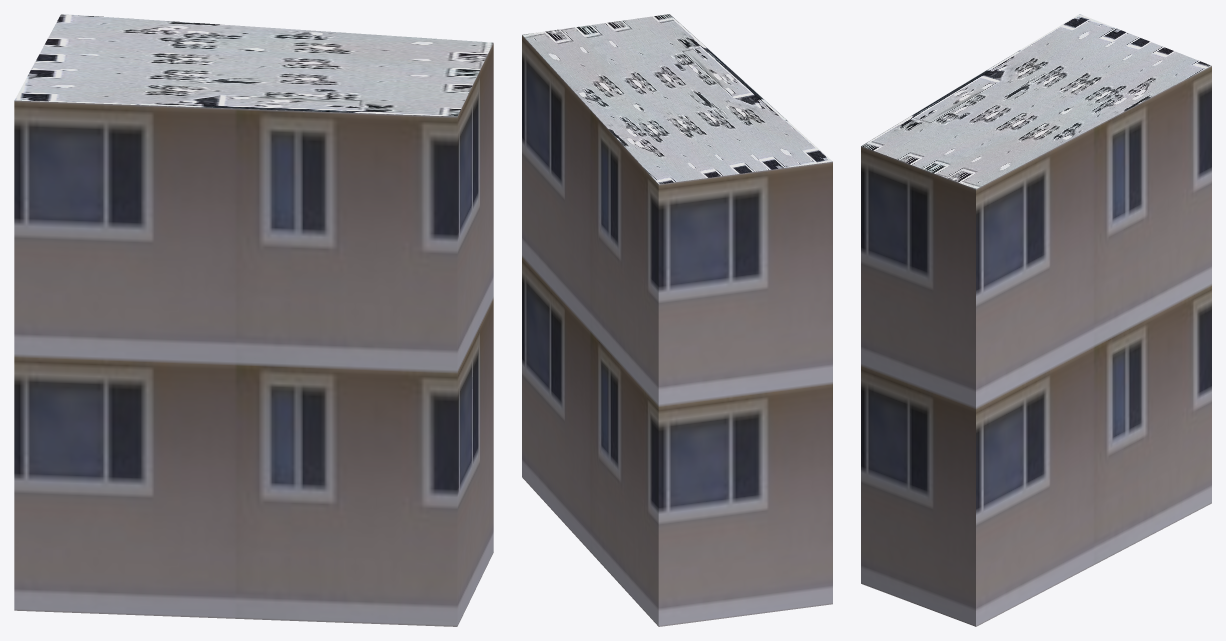
The model's file is ResTex__4832.fbx.
3 views of the same model, side by side, from view 1: azimuth 30°, elevation 25°; view 2: azimuth 150°, elevation 25°; view 3: azimuth 270°, elevation 25° (orthographic). The views are drawn at different scales.
Visible parts, largest first — view 1: CityEngineMaterial_21_m, CityEngineMaterial_4_m; view 2: CityEngineMaterial_21_m, CityEngineMaterial_4_m; view 3: CityEngineMaterial_21_m, CityEngineMaterial_4_m.
Part boxes in pixels (box(x1,y1,x2,y2)): CityEngineMaterial_21_m: box(14, 43, 493, 626); CityEngineMaterial_4_m: box(14, 14, 492, 116); CityEngineMaterial_21_m: box(522, 35, 832, 626); CityEngineMaterial_4_m: box(522, 14, 832, 184); CityEngineMaterial_21_m: box(861, 66, 1211, 626); CityEngineMaterial_4_m: box(861, 14, 1211, 188).
Size of the model in its own units: 5.15 by 6 by 4.36.
2 materials, 2 textured.
